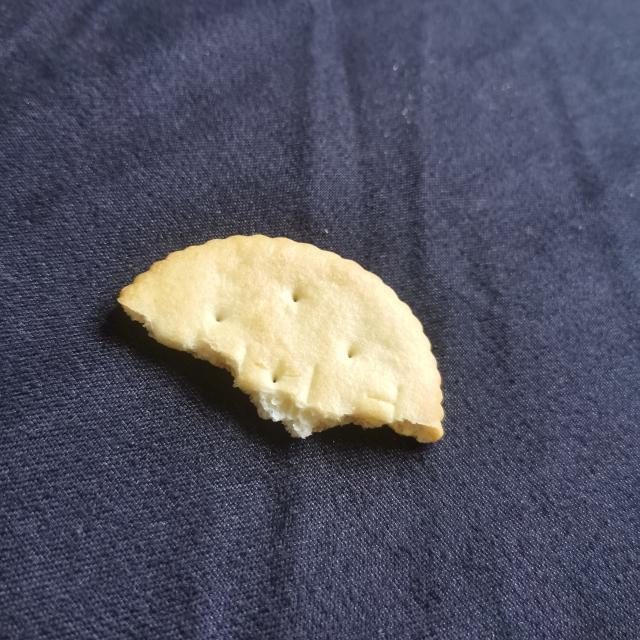Broken: (116, 232, 446, 444)
